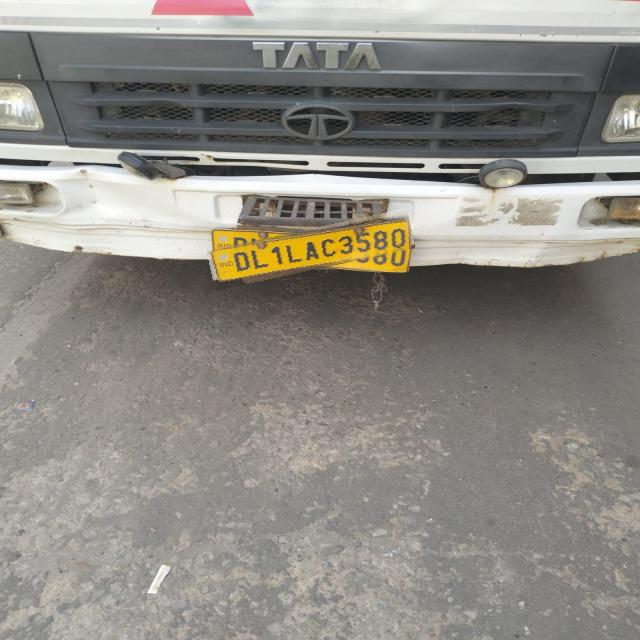License-plate: (207, 219, 414, 280)
